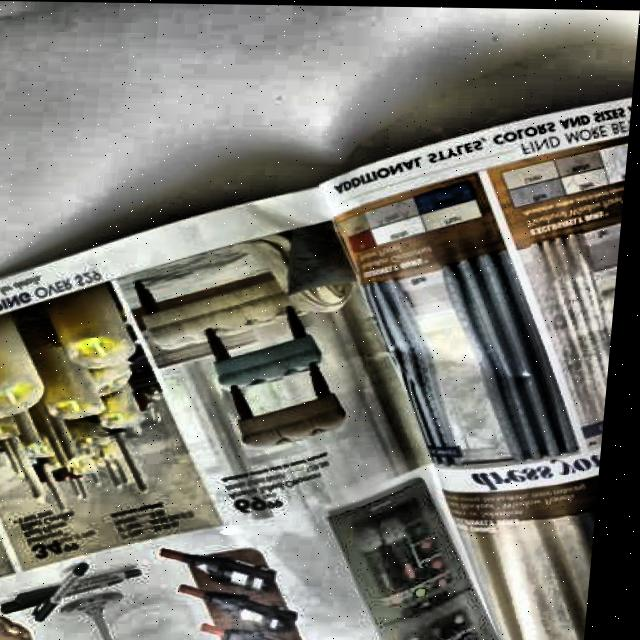paper: (0, 86, 632, 640)
